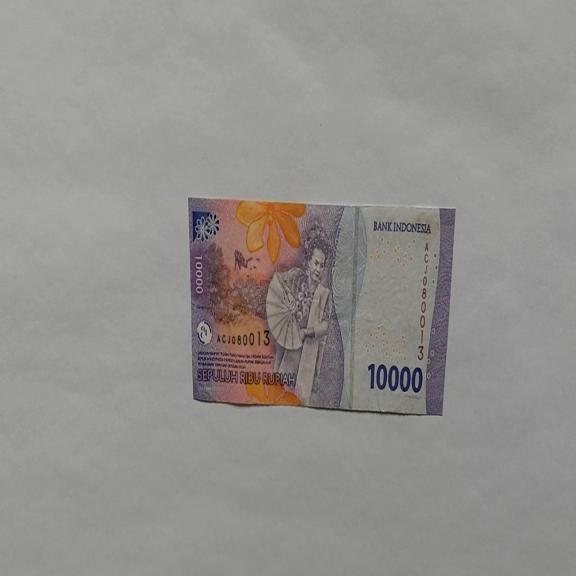Kertas: (188, 196, 456, 415), (367, 360, 423, 394)
